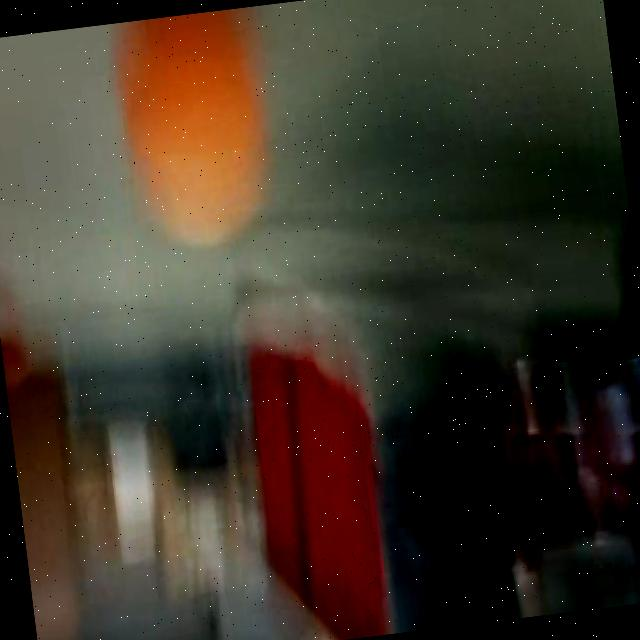ping-pong-ball: (96, 11, 280, 232)
